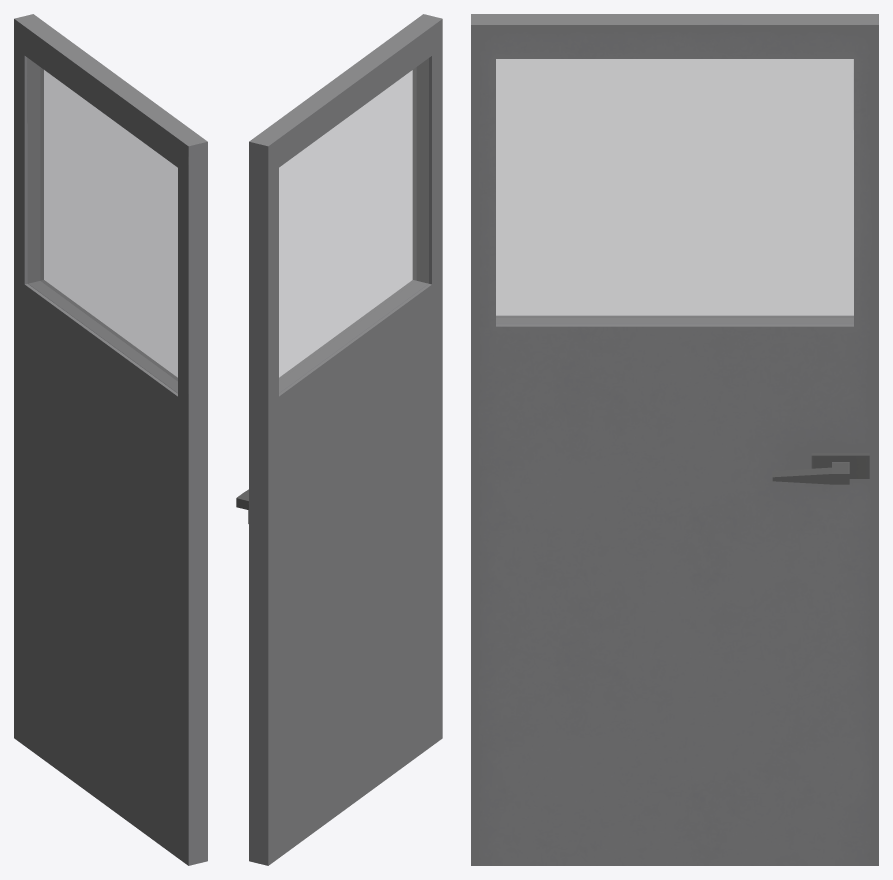
File: mirrorDoor.glb
The picture shows the model from 3 angles, left to right: view 1: azimuth 30°, elevation 25°; view 2: azimuth 150°, elevation 25°; view 3: azimuth 270°, elevation 25°; orthographic projection. The views are drawn at different scales.
Parts seen in each view (by area): view 1: Door-material; view 2: Door-material; view 3: Door-material.
Boxes of the visible parts, left/top/right/bottom form: Door-material: left=14, top=14, right=207, bottom=865; Door-material: left=236, top=14, right=442, bottom=865; Door-material: left=471, top=14, right=878, bottom=865.
Size of the model in its own units: 0.0237 by 0.365 by 0.1604.
Materials: 1 (1 with a texture image).
